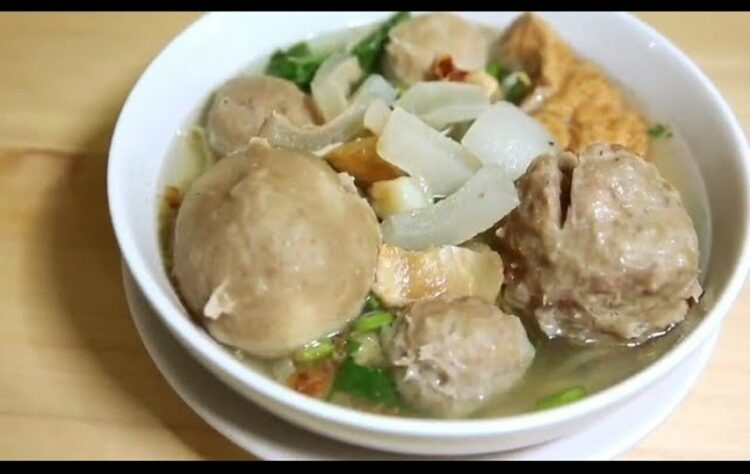bakso_malang: (165, 14, 703, 415)
